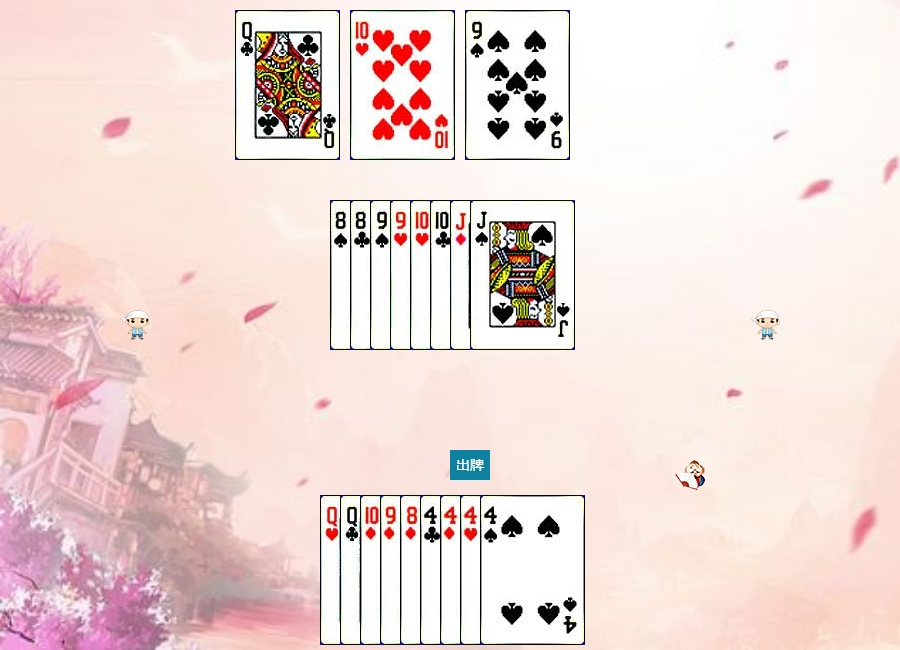10~1: (360, 495, 465, 645)
10~2: (430, 200, 535, 350)
10~3: (350, 10, 455, 160), (410, 200, 515, 350)
11~1: (450, 200, 555, 350)
11~4: (470, 200, 575, 350)
12~2: (235, 10, 340, 160), (340, 495, 445, 645)
12~3: (320, 495, 425, 645)
4~1: (440, 495, 545, 645)
4~2: (420, 495, 525, 645)
4~3: (460, 495, 565, 645)
4~4: (480, 495, 585, 645)
8~1: (400, 495, 505, 645)
8~2: (350, 200, 455, 350)
8~4: (330, 200, 435, 350)
9~1: (380, 495, 485, 645)
9~3: (390, 200, 495, 350)
9~4: (465, 10, 570, 160), (370, 200, 475, 350)
